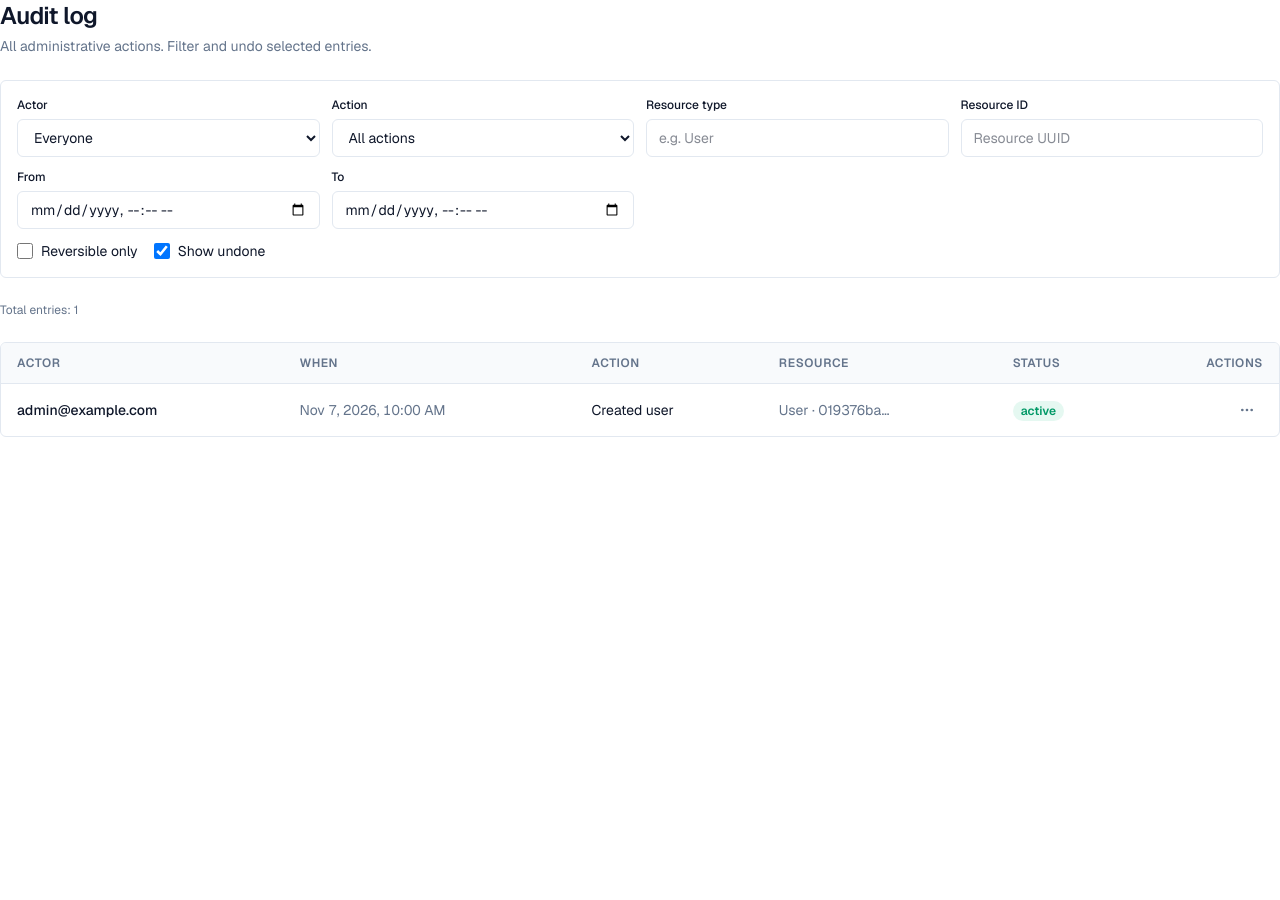
it: AdminAuditPage › should open the details dialog with the before/after/metadata sections when Details is clicked
The width and height of the screenshot is (1280, 900).
Click the button named "row actions". click: [1247, 410]
box: [1231,396,1263,424]
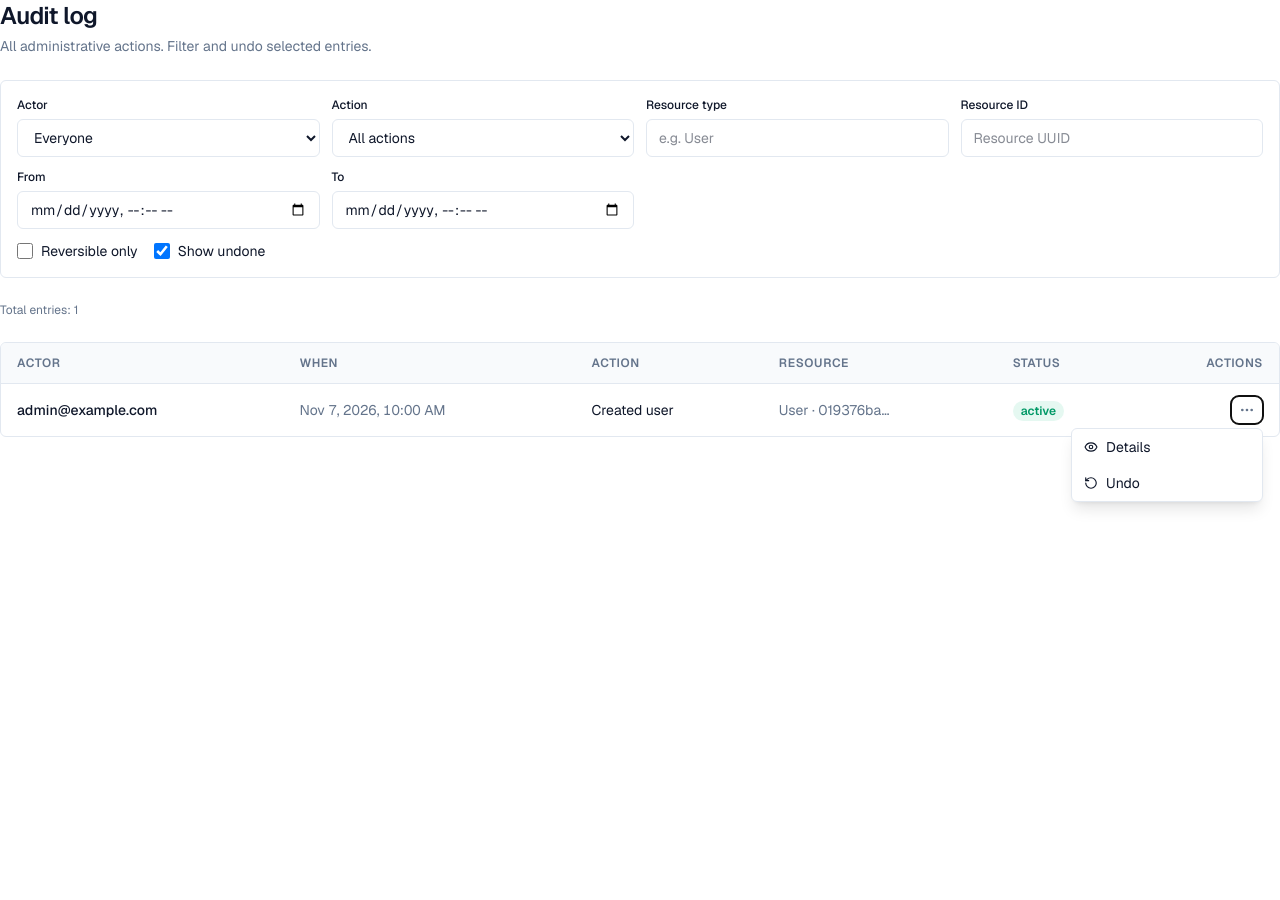
Click the menu item "Details". click: [1167, 447]
box: [1072,429,1262,465]
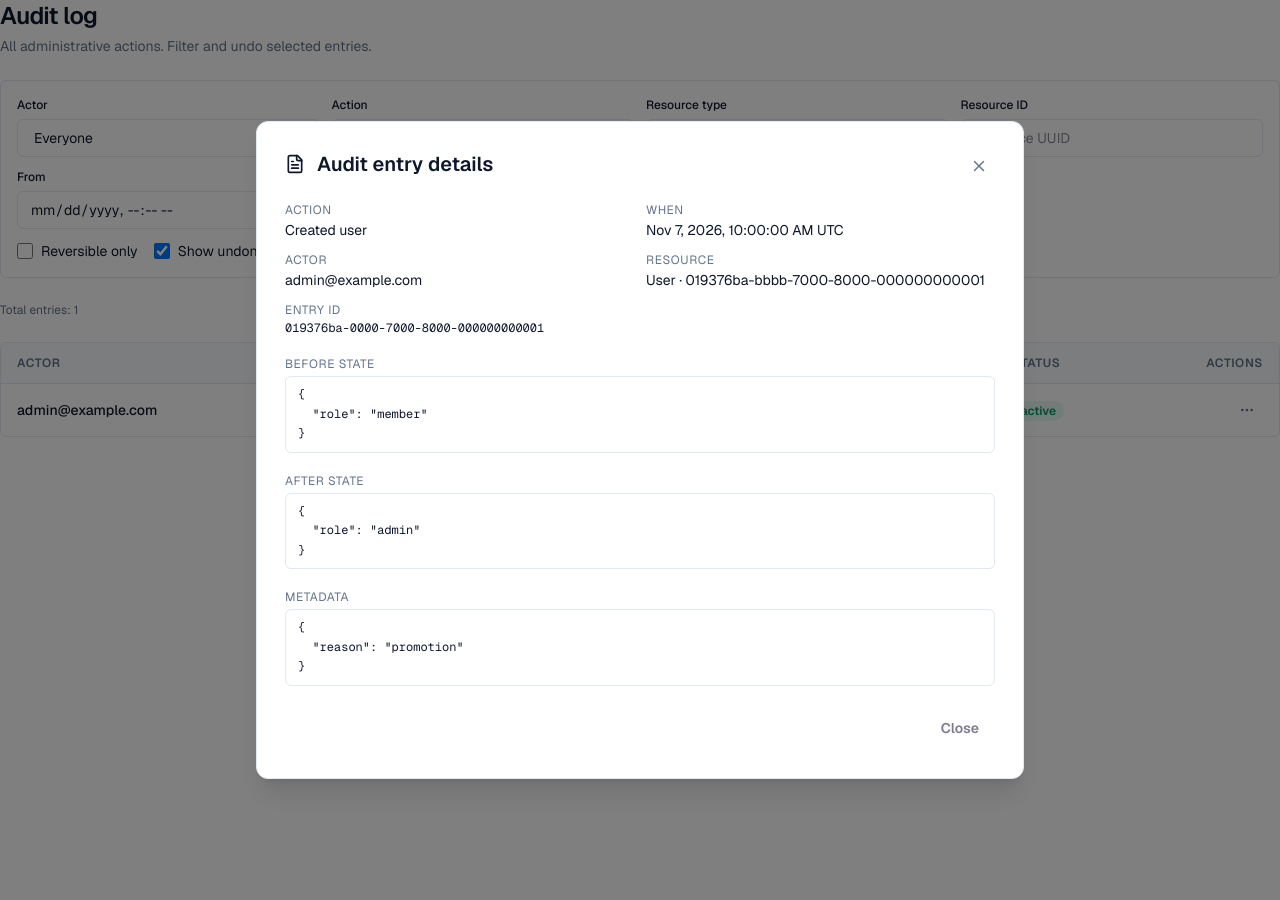
Expected: the dialog "Audit entry details" is shown
Expected: the heading "Before state" is shown, [285,356,375,372]
Expected: the heading "After state" is shown, [285,473,364,489]
